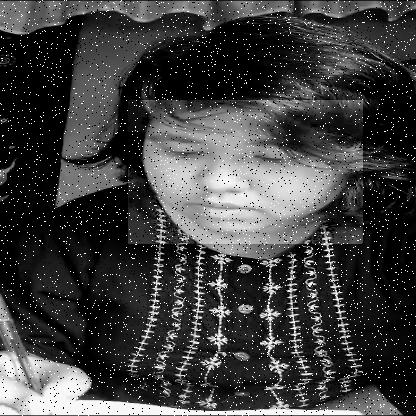Normal: (128, 100, 363, 244)
